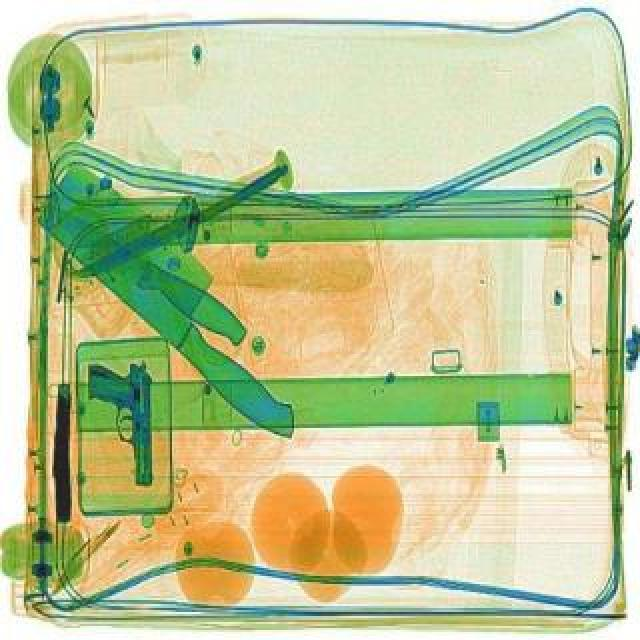gun: (86, 356, 150, 480), (50, 382, 70, 522)
knife: (10, 154, 350, 444), (28, 186, 254, 348), (72, 164, 292, 282)
